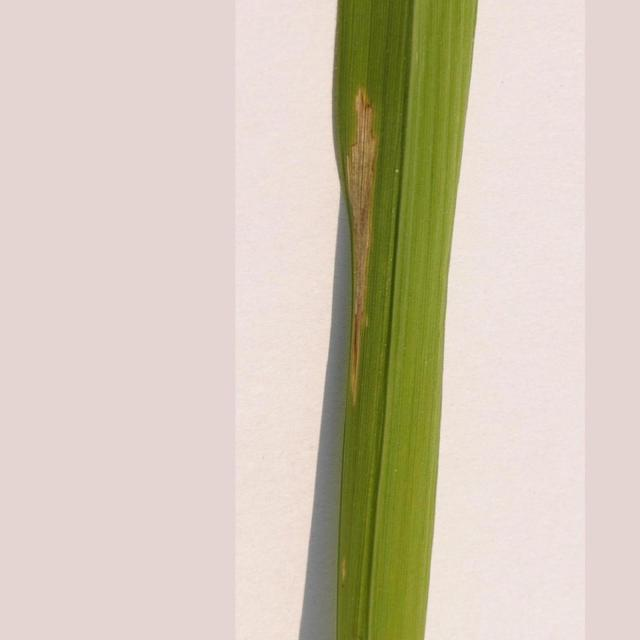Bacterial leaf blight: (341, 88, 392, 413)
